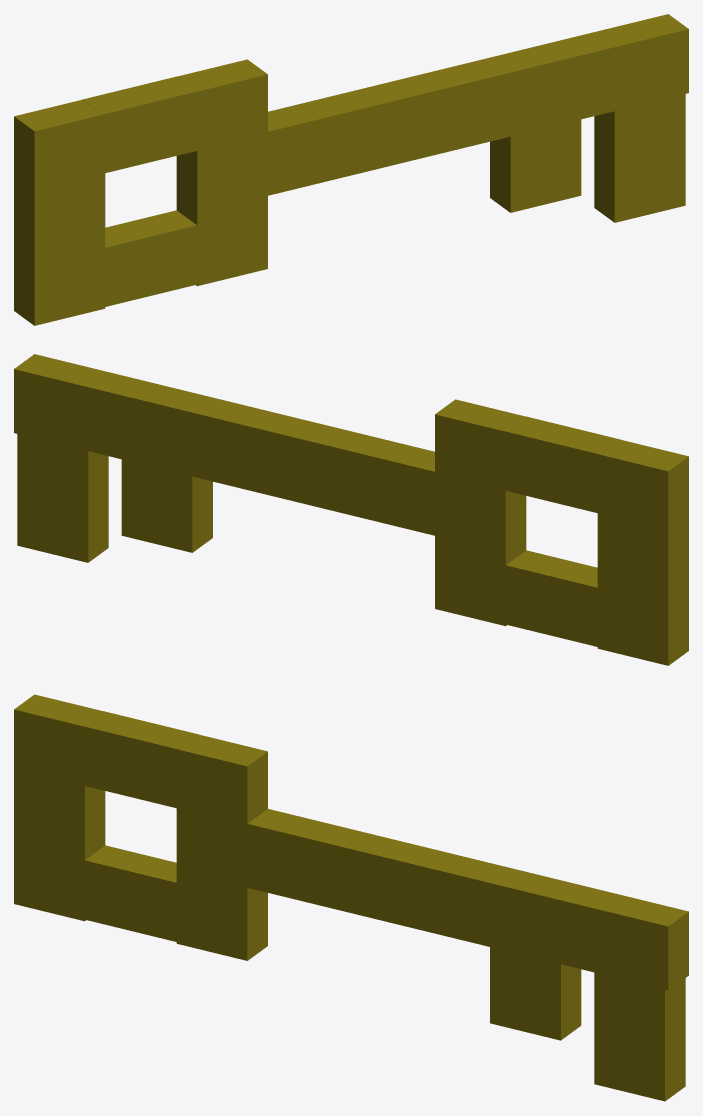
Rendered from Key.fbx.
3 views of the same model, one above another, from view 1: azimuth 30°, elevation 25°; view 2: azimuth 150°, elevation 25°; view 3: azimuth 330°, elevation 25° (orthographic).
Visible parts, largest first — view 1: pCube1, pCube5, pCube4, pCube2, pCube6, pCube7, pCube3; view 2: pCube1, pCube5, pCube4, pCube2, pCube6, pCube7, pCube3; view 3: pCube1, pCube4, pCube5, pCube2, pCube6, pCube7, pCube3.
Boxes of the visible parts, x1,y1,x2,y2 form: pCube1: (251,14,688,199); pCube5: (14,100,105,325); pCube4: (176,59,267,286); pCube2: (594,59,685,222); pCube6: (82,76,198,173); pCube7: (105,210,198,306); pCube3: (490,116,581,212); pCube1: (14,354,448,535); pCube5: (597,440,688,665); pCube4: (435,399,526,626); pCube2: (17,402,108,562); pCube6: (504,416,620,512); pCube7: (505,550,597,646); pCube3: (121,456,212,552); pCube1: (230,809,688,990); pCube4: (176,734,267,960); pCube5: (14,694,105,921); pCube2: (594,937,685,1101); pCube6: (82,711,198,808); pCube7: (82,845,177,942); pCube3: (490,947,581,1040).
Size of the model in its own units: 7.21 by 2.46 by 0.3922.
